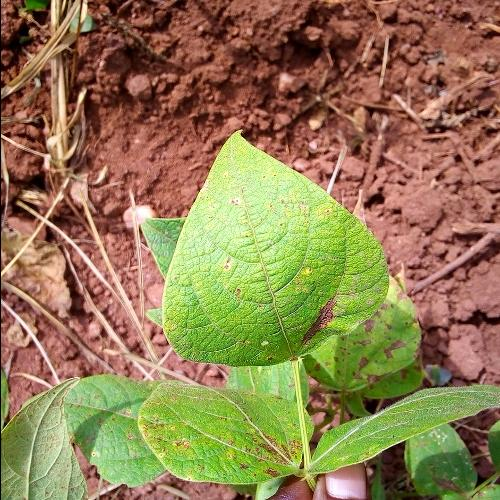hawar: (150, 372, 308, 488), (276, 285, 356, 368)
